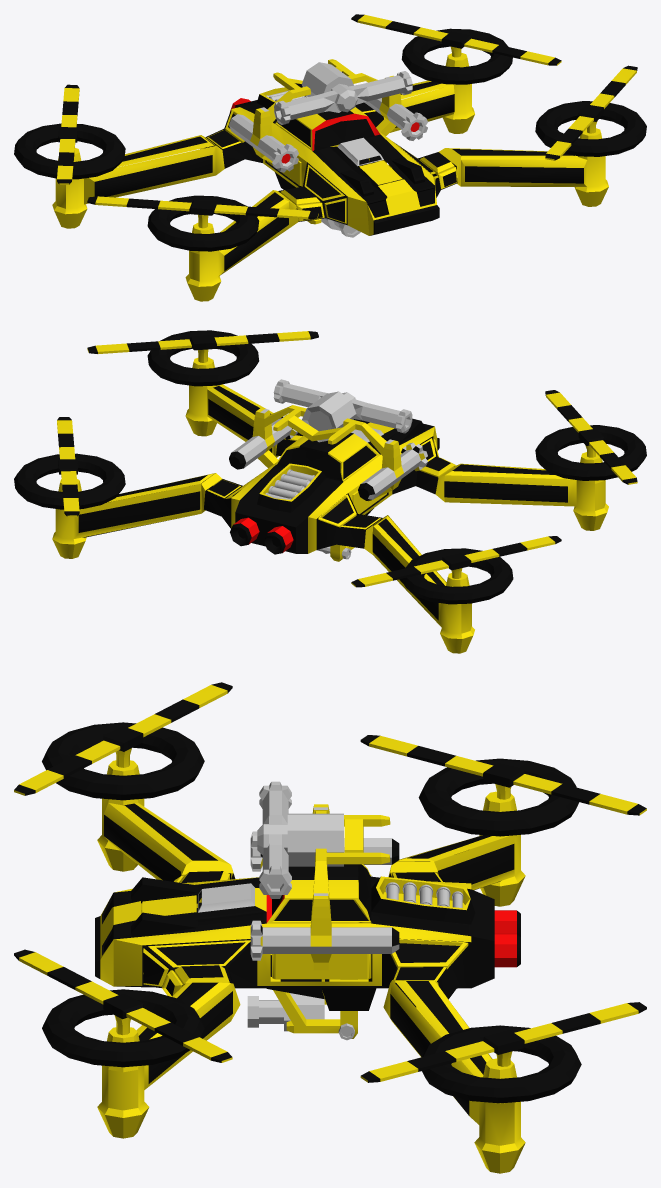
File: drone.obj
3 views of the same model, one above another, from view 1: azimuth 30°, elevation 25°; view 2: azimuth 150°, elevation 25°; view 3: azimuth 270°, elevation 25° (orthographic). The views are drawn at different scales.
Parts seen in each view (by area): view 1: drone_costum_col_1, drone_costum_col_master, drone_costum_uv__tex_blury, drone_costum_col_4, drone_costum_col_3; view 2: drone_costum_col_1, drone_costum_col_master, drone_costum_uv__tex_blury, drone_costum_col_4, drone_costum_col_3; view 3: drone_costum_col_1, drone_costum_col_master, drone_costum_uv__tex_blury, drone_costum_col_4, drone_costum_col_3.
Part boxes in pixels (box(x1,y1,x2,y2)): drone_costum_col_1: box(14, 14, 646, 270); drone_costum_col_master: box(52, 15, 636, 301); drone_costum_uv__tex_blury: box(229, 62, 427, 237); drone_costum_col_4: box(277, 119, 433, 217); drone_costum_col_3: box(230, 98, 419, 163); drone_costum_col_1: box(14, 330, 646, 620); drone_costum_col_master: box(52, 331, 637, 653); drone_costum_uv__tex_blury: box(232, 379, 427, 559); drone_costum_col_4: box(277, 446, 376, 479); drone_costum_col_3: box(233, 517, 293, 552); drone_costum_col_1: box(14, 682, 646, 1115); drone_costum_col_master: box(14, 685, 646, 1173); drone_costum_uv__tex_blury: box(198, 781, 463, 1040); drone_costum_col_4: box(104, 864, 370, 952); drone_costum_col_3: box(266, 895, 516, 967).
Bounding box in the file's own units: 12.4 × 3.35 × 8.76.
